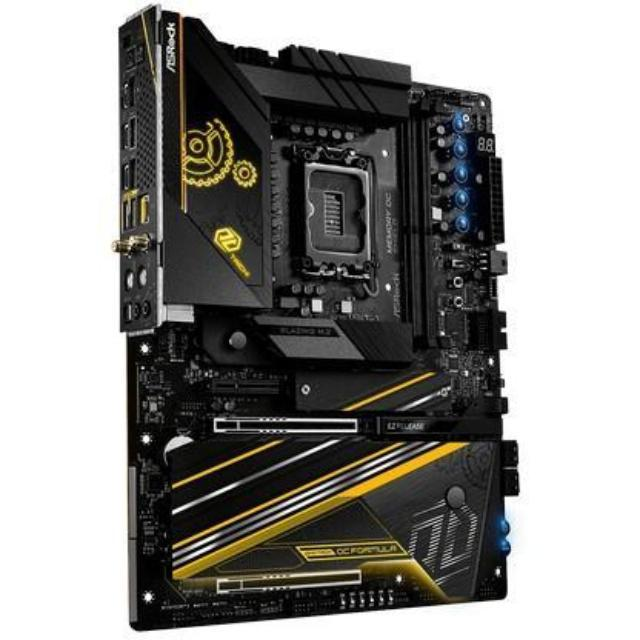Mainboard: (98, 3, 527, 623)
